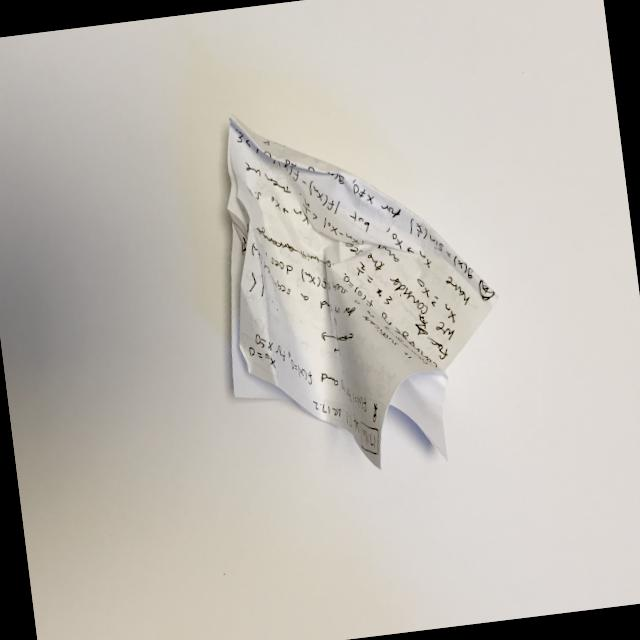Paper: (198, 81, 516, 486)
